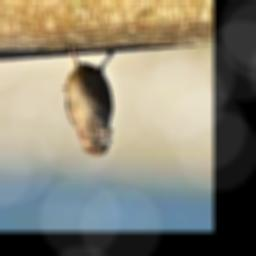Sparrow: (63, 47, 116, 156)
